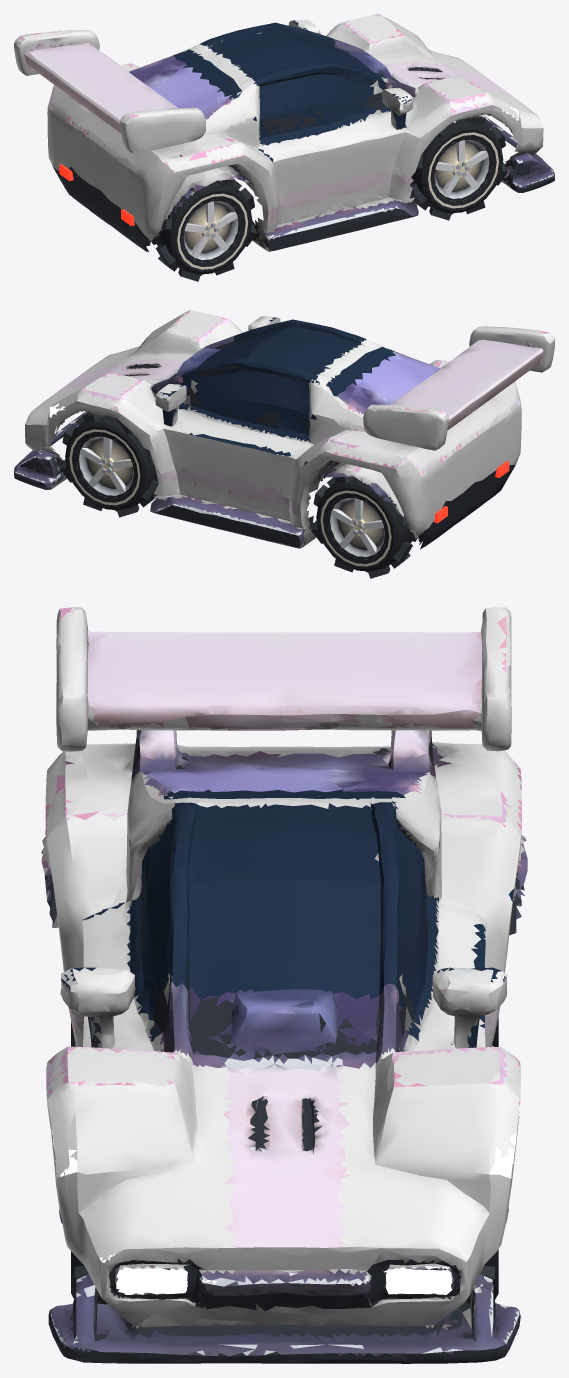
File: car-vektor.glb
3 views of the same model, one above another, from view 1: azimuth 30°, elevation 25°; view 2: azimuth 150°, elevation 25°; view 3: azimuth 270°, elevation 25° (orthographic). The views are drawn at different scales.
Parts seen in each view (by area): view 1: body, wheel_rr, wheel_fr; view 2: body, wheel_fl, wheel_rl; view 3: body.
Boxes of the visible parts, x1,y1,x2,y2 form: body: [14, 14, 554, 251]; wheel_rr: [151, 179, 257, 281]; wheel_fr: [409, 116, 507, 220]; body: [14, 310, 554, 549]; wheel_fl: [60, 411, 158, 517]; wheel_rl: [311, 476, 417, 578]; body: [41, 607, 527, 1363].
Size of the model in its own units: 4.61 by 1.87 by 2.21.
